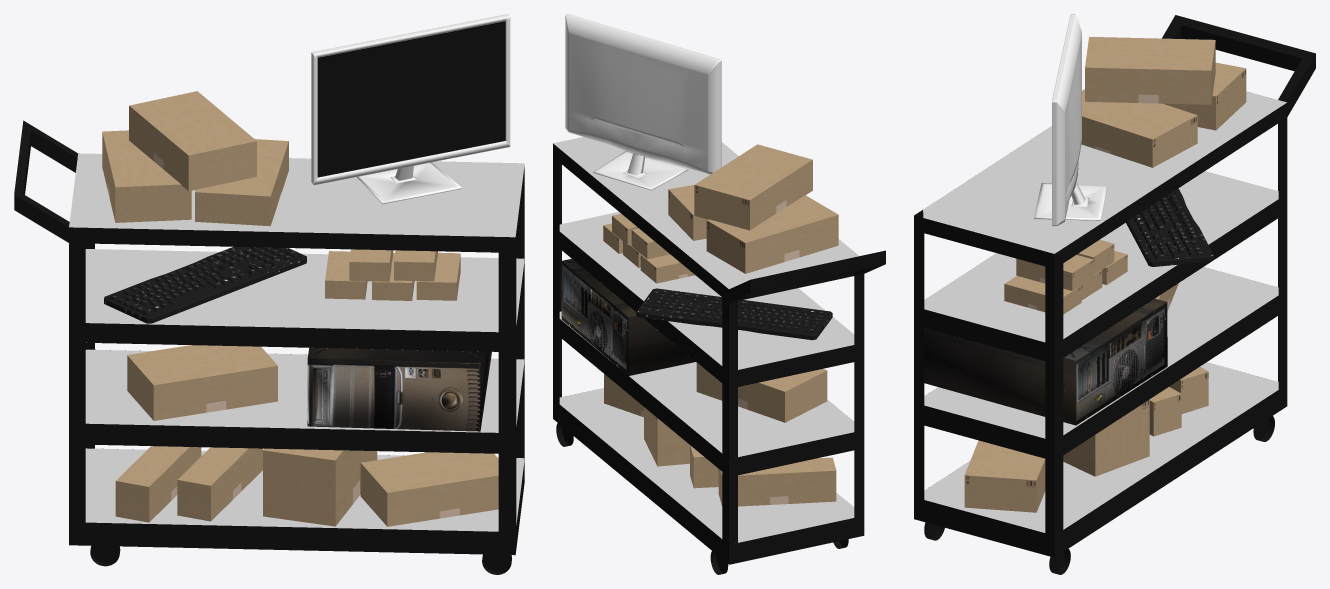
File: paretevetratacarrello.gltf
3 views of the same model, side by side, from view 1: azimuth 30°, elevation 25°; view 2: azimuth 150°, elevation 25°; view 3: azimuth 270°, elevation 25° (orthographic). The views are drawn at different scales.
Visible parts, largest first — view 1: Carrello, Carrello Ripiano 1 Monitor, Carrello Ripiano 3 PC, Carrello Ripiano 3 Scatolo, Carrello Ripiano 1 Scatolo Alto, Carrello Ripiano 4 Scatolo 4, Copia Tastiera, Carrello Ripiano 4 Scatolo 3, Carrello Ripiano 1 Scatolo Sx, Carrello Ripiano 1 Scatolo Dx, Carrello Ripiano 4 Scatolo 2, Carrello Ripiano 4 Scatolo 1 (+5 smaller); view 2: Carrello, Carrello Ripiano 1 Monitor, Carrello Ripiano 3 PC, Carrello Ripiano 1 Scatolo Alto, Carrello Ripiano 1 Scatolo Sx, Copia Tastiera, Carrello Ripiano 4 Scatolo 1, Carrello Ripiano 3 Scatolo, Carrello Ripiano 4 Scatolo 3, Carrello Ripiano 1 Scatolo Dx, Carrello Ripiano 2 Scatolo Basso 1, Carrello Ripiano 4 Scatolo 2 (+3 smaller); view 3: Carrello, Carrello Ripiano 3 PC, Carrello Ripiano 1 Scatolo Alto, Carrello Ripiano 1 Monitor, Carrello Ripiano 1 Scatolo Dx, Carrello Ripiano 4 Scatolo 4, Copia Tastiera, Carrello Ripiano 4 Scatolo 3, Carrello Ripiano 1 Scatolo Sx, Carrello Ripiano 2 Scatolo Basso 3, Carrello Ripiano 2 Scatolo Alto 2, Carrello Ripiano 4 Scatolo 2 (+3 smaller).
Boxes of the visible parts, x1,y1,x2,y2 form: Carrello: [14, 120, 524, 574]; Carrello Ripiano 1 Monitor: [311, 14, 510, 204]; Carrello Ripiano 3 PC: [307, 347, 491, 431]; Carrello Ripiano 3 Scatolo: [127, 345, 277, 420]; Carrello Ripiano 1 Scatolo Alto: [129, 91, 256, 190]; Carrello Ripiano 4 Scatolo 4: [360, 452, 498, 526]; Copia Tastiera: [104, 246, 306, 323]; Carrello Ripiano 4 Scatolo 3: [263, 448, 377, 526]; Carrello Ripiano 1 Scatolo Sx: [102, 130, 191, 222]; Carrello Ripiano 1 Scatolo Dx: [195, 139, 288, 226]; Carrello Ripiano 4 Scatolo 2: [177, 447, 262, 521]; Carrello Ripiano 4 Scatolo 1: [115, 446, 201, 522]; Carrello: [553, 137, 885, 574]; Carrello Ripiano 1 Monitor: [565, 14, 721, 190]; Carrello Ripiano 3 PC: [561, 258, 695, 375]; Carrello Ripiano 1 Scatolo Alto: [694, 144, 812, 230]; Carrello Ripiano 1 Scatolo Sx: [706, 195, 838, 273]; Copia Tastiera: [636, 288, 832, 340]; Carrello Ripiano 4 Scatolo 1: [718, 457, 836, 506]; Carrello Ripiano 3 Scatolo: [696, 362, 827, 422]; Carrello Ripiano 4 Scatolo 3: [644, 407, 689, 466]; Carrello Ripiano 1 Scatolo Dx: [668, 185, 707, 240]; Carrello Ripiano 2 Scatolo Basso 1: [640, 254, 694, 283]; Carrello Ripiano 4 Scatolo 2: [690, 445, 718, 488]; Carrello: [914, 15, 1315, 574]; Carrello Ripiano 3 PC: [924, 298, 1167, 425]; Carrello Ripiano 1 Scatolo Alto: [1085, 36, 1215, 104]; Carrello Ripiano 1 Monitor: [1034, 14, 1107, 226]; Carrello Ripiano 1 Scatolo Dx: [1081, 89, 1197, 167]; Carrello Ripiano 4 Scatolo 4: [964, 440, 1045, 512]; Copia Tastiera: [1126, 188, 1213, 266]; Carrello Ripiano 4 Scatolo 3: [1063, 399, 1149, 476]; Carrello Ripiano 1 Scatolo Sx: [1163, 62, 1246, 130]; Carrello Ripiano 2 Scatolo Basso 3: [1004, 276, 1081, 314]; Carrello Ripiano 2 Scatolo Alto 2: [1016, 255, 1093, 290]; Carrello Ripiano 4 Scatolo 2: [1149, 387, 1181, 436].
Size of the model in its own units: 1.07 by 1.13 by 0.8737.
Materials: 7 (4 with a texture image).
